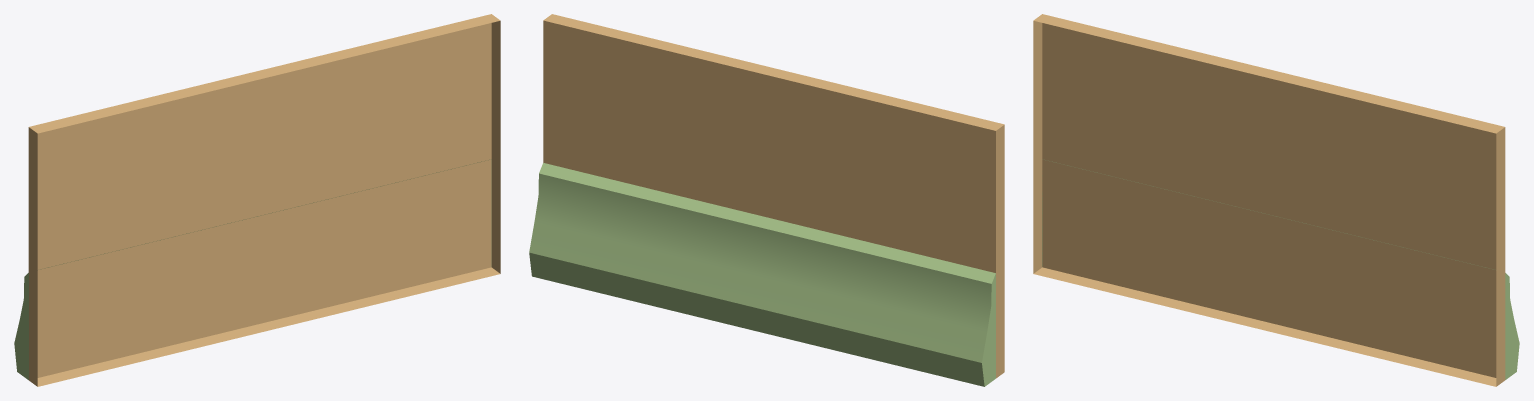
Rendered from room_wall_outer.fbx.
The picture shows the model from 3 angles, left to right: view 1: azimuth 30°, elevation 25°; view 2: azimuth 150°, elevation 25°; view 3: azimuth 330°, elevation 25°; orthographic projection. The views are drawn at different scales.
Visible parts, largest first — view 1: polySurface188, polySurface185; view 2: polySurface188, polySurface185; view 3: polySurface188, polySurface185.
Boxes of the visible parts, box(x1,y1,x2,y2) form: polySurface188: box(28, 14, 500, 386); polySurface185: box(14, 159, 491, 379); polySurface188: box(543, 14, 1004, 378); polySurface185: box(529, 163, 995, 386); polySurface188: box(1033, 14, 1505, 386); polySurface185: box(1042, 159, 1519, 379).
Bounding box in the file's own units: 10 × 5.23 × 0.8772.
